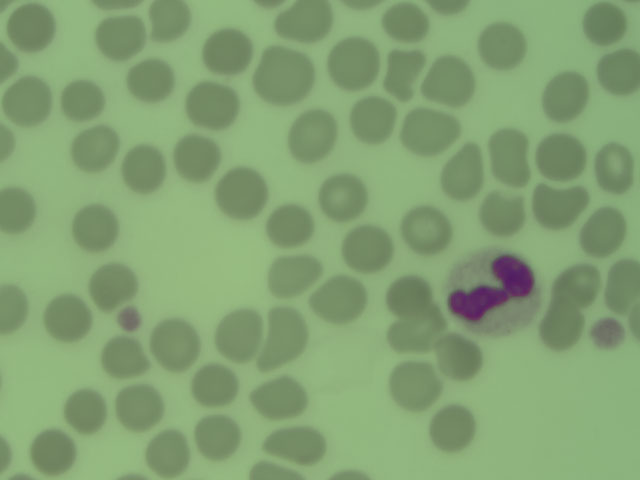RBC: (445, 247, 521, 338)
WBC: (254, 45, 313, 105), (263, 306, 309, 371), (488, 124, 535, 187), (86, 262, 134, 309), (71, 205, 120, 250), (6, 1, 55, 46), (324, 41, 373, 86), (346, 94, 395, 139), (285, 110, 334, 155), (200, 25, 249, 70), (187, 81, 236, 126), (123, 58, 172, 103), (55, 78, 104, 123), (3, 76, 52, 121), (71, 127, 120, 172), (63, 384, 112, 429), (114, 381, 163, 426), (191, 363, 240, 408), (99, 335, 148, 380), (151, 320, 200, 365), (215, 310, 264, 355), (267, 250, 316, 295), (266, 202, 315, 247), (169, 138, 218, 183), (217, 170, 266, 215), (119, 144, 168, 189), (43, 294, 92, 339), (344, 92, 393, 137), (342, 90, 391, 135), (340, 88, 389, 133), (338, 86, 387, 131), (336, 84, 385, 129), (29, 428, 78, 473), (147, 428, 196, 473), (196, 415, 245, 460), (268, 418, 317, 463), (383, 4, 432, 49), (254, 371, 303, 416), (426, 398, 475, 443), (391, 359, 440, 404), (435, 336, 484, 381), (397, 307, 446, 352), (383, 270, 432, 315), (537, 305, 586, 350), (555, 264, 604, 309), (97, 16, 146, 61), (532, 180, 581, 225), (575, 204, 624, 249), (591, 143, 640, 188), (535, 129, 584, 174), (315, 274, 364, 319), (343, 223, 392, 268), (319, 171, 368, 216), (406, 207, 455, 252), (475, 187, 524, 232), (401, 107, 450, 152), (591, 47, 640, 92), (540, 70, 589, 115), (477, 22, 526, 67), (428, 55, 477, 100), (275, 1, 324, 45), (148, 1, 197, 45), (582, 1, 631, 45), (440, 143, 480, 196), (2, 281, 32, 335), (601, 265, 640, 305), (1, 189, 35, 234), (1, 123, 20, 164)
